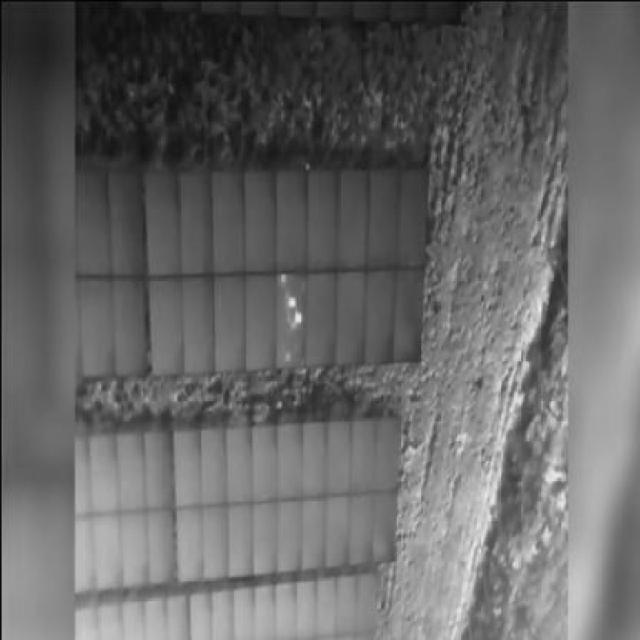hotspot: (278, 272, 287, 291), (294, 311, 304, 326), (287, 292, 295, 308)
